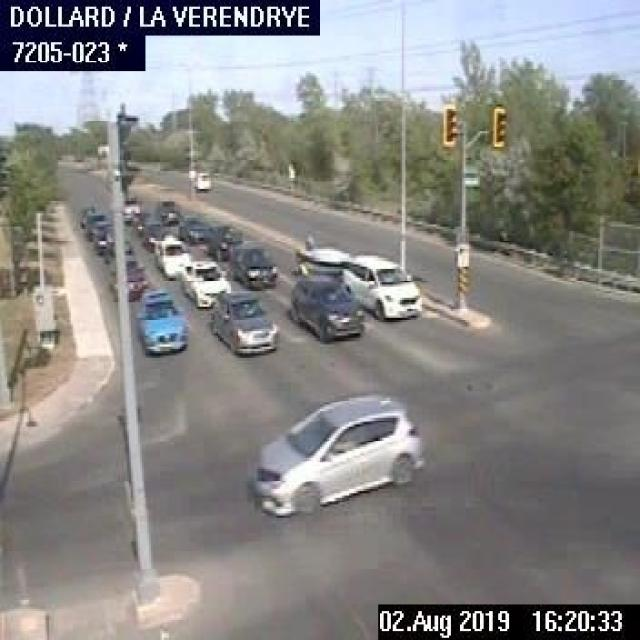vehicle: (247, 394, 424, 516), (293, 234, 422, 320), (287, 276, 362, 340), (209, 289, 278, 358), (137, 288, 186, 354), (176, 254, 232, 306), (228, 239, 282, 289), (153, 232, 189, 276), (110, 259, 146, 299), (204, 223, 240, 256), (178, 212, 208, 238), (84, 212, 109, 240), (92, 222, 112, 256), (142, 221, 164, 251), (154, 197, 179, 223), (118, 194, 141, 221), (193, 171, 211, 191)
